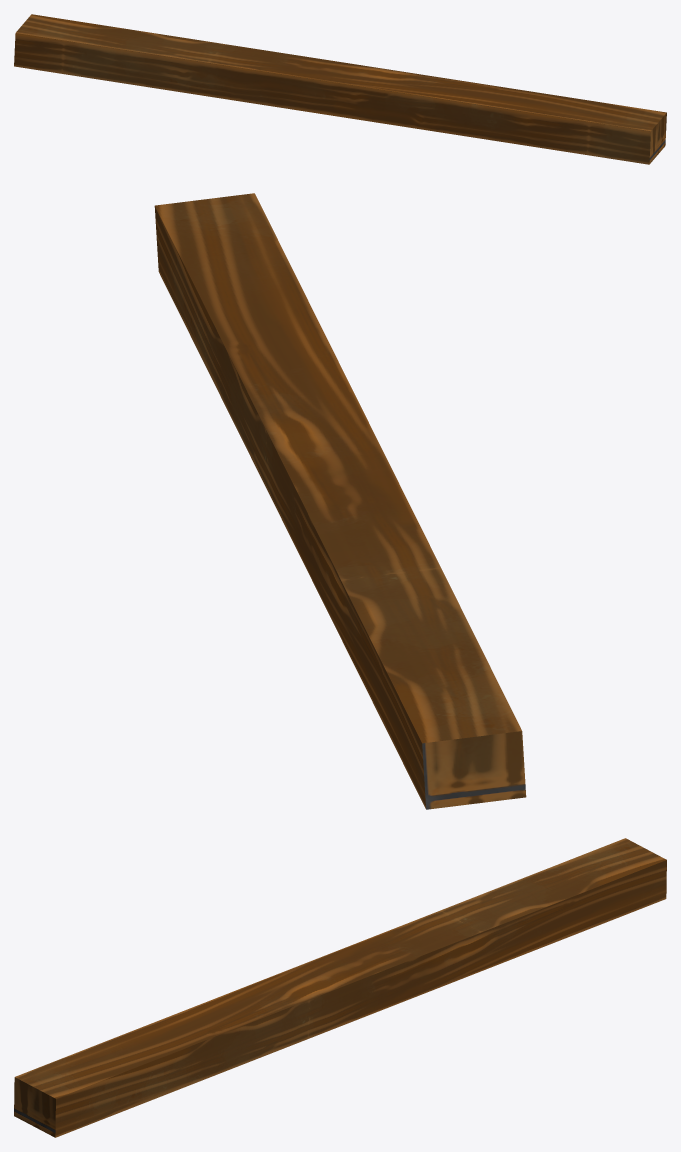
3 renders of one model, top to bottom at view 1: azimuth 30°, elevation 25°; view 2: azimuth 150°, elevation 25°; view 3: azimuth 270°, elevation 25°, orthographic. The views are drawn at different scales.
Parts seen in each view (by area): view 1: Cube.738; view 2: Cube.738; view 3: Cube.738.
Part boxes in pixels (x1,y1,x2,y2): Cube.738: (14, 14, 666, 164); Cube.738: (154, 193, 526, 809); Cube.738: (14, 838, 666, 1137).
Bounding box in the file's own units: 535 × 52.77 × 593.
Materials: 1 (1 with a texture image).
